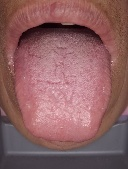tongue: (13, 43, 112, 144)
